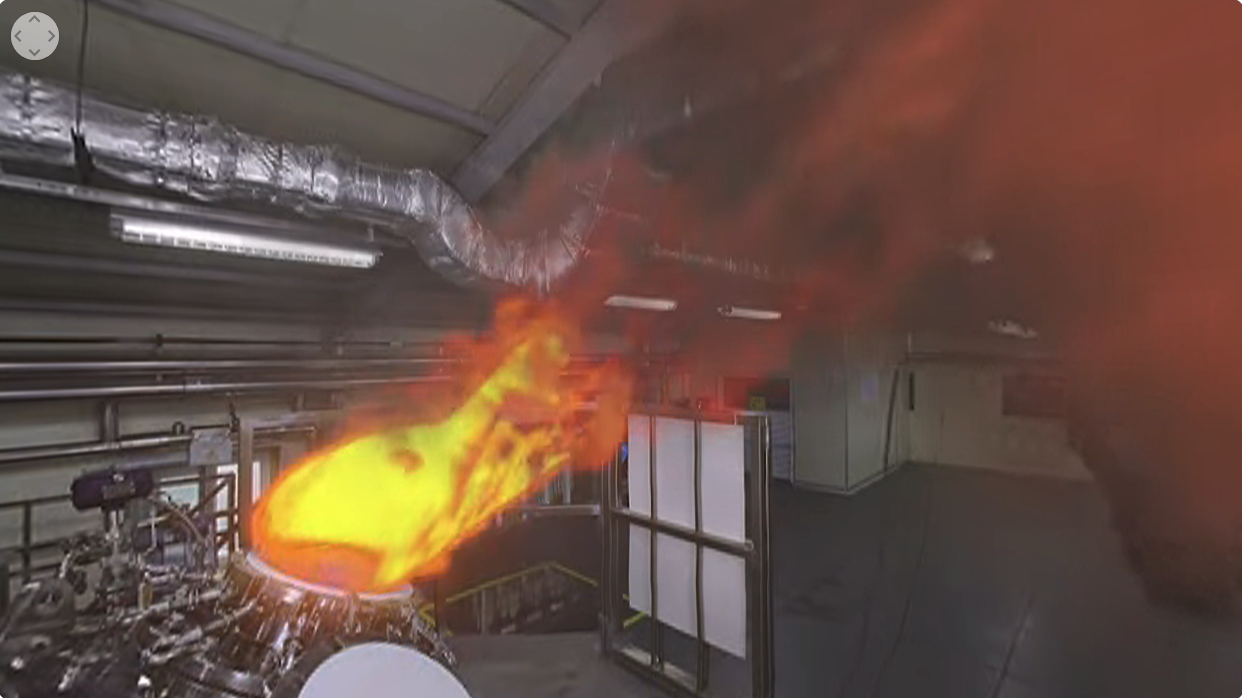fire: (199, 209, 670, 633)
